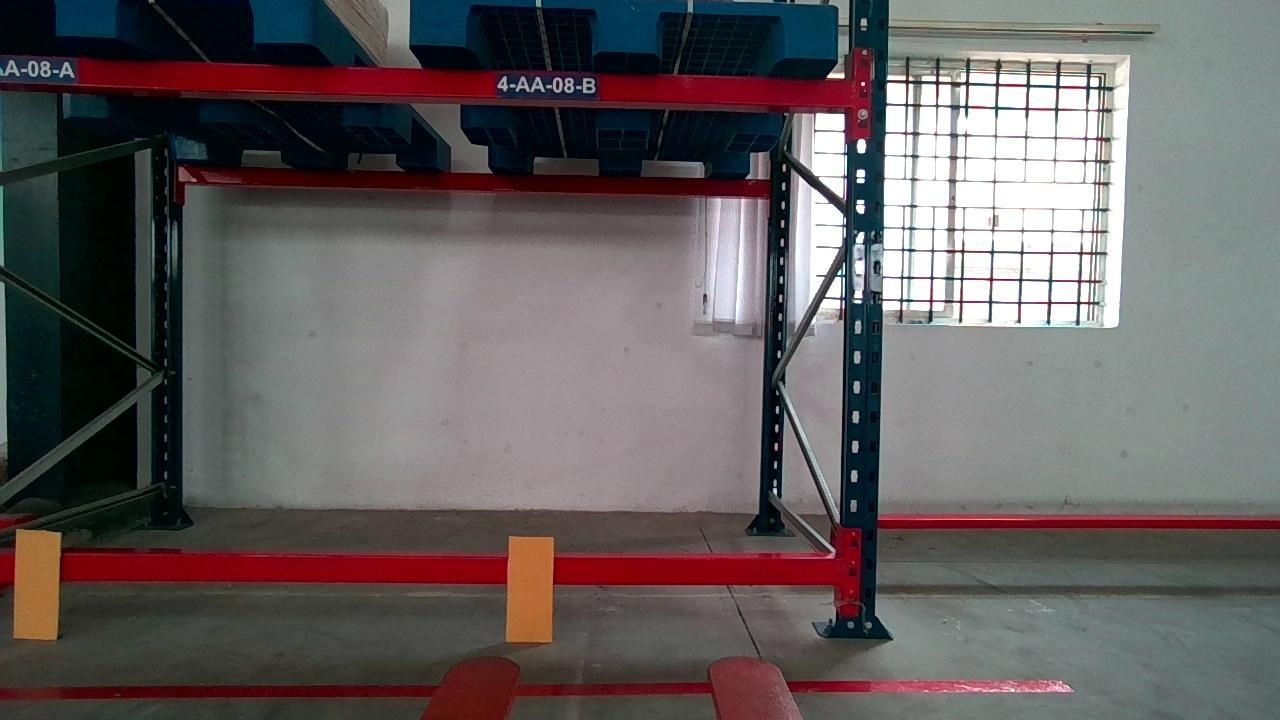h_rack: (2, 50, 850, 107), (0, 551, 847, 586)
orange_strip: (503, 534, 559, 642), (12, 526, 61, 637)
red_line: (5, 677, 1072, 700)
small_pallet: (409, 2, 837, 64), (2, 0, 316, 45)
